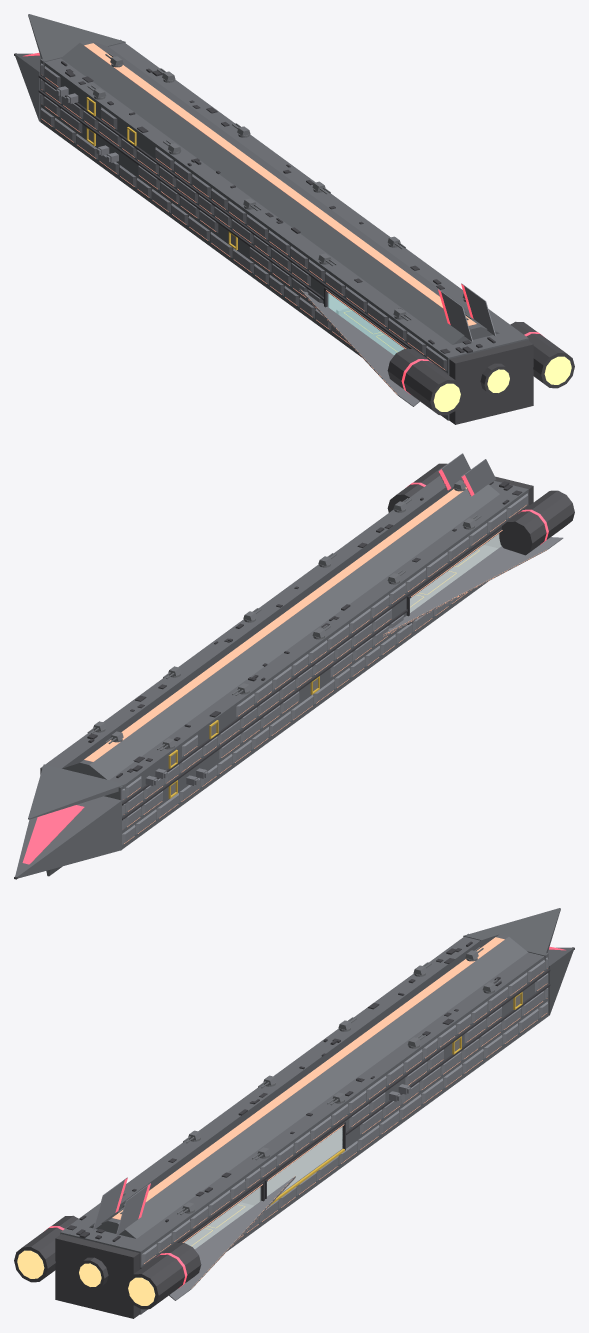
Rendered from ship_XL_v1.glb.
3 views of the same model, one above another, from view 1: azimuth 30°, elevation 25°; view 2: azimuth 150°, elevation 25°; view 3: azimuth 330°, elevation 25° (orthographic).
Parts seen in each view (by area): view 1: XL_Hull-col, XL_Armor, XL_Engines, XL_Lights, XL_Trim, XL_EngineGlow, XL_Details, XL_HangarShield_Port, XL_Decks-col, XL_Hazard; view 2: XL_Hull-col, XL_Armor, XL_Lights, XL_Engines, XL_Trim, XL_Accent, XL_HangarShield_Port, XL_Decks-col, XL_Details, XL_Hazard; view 3: XL_Hull-col, XL_Armor, XL_Engines, XL_Lights, XL_Trim, XL_EngineGlow, XL_CargoBayShield, XL_CargoBayDoor-col, XL_Details, XL_HangarShield_Starboard, XL_Decks-col, XL_Hazard.
Boxes of the visible parts, bbox=[...] form: XL_Hull-col: bbox=[15, 14, 528, 420]; XL_Armor: bbox=[40, 63, 495, 406]; XL_Engines: bbox=[14, 53, 574, 424]; XL_Lights: bbox=[41, 43, 476, 394]; XL_Trim: bbox=[38, 75, 448, 374]; XL_EngineGlow: bbox=[433, 356, 571, 411]; XL_Details: bbox=[61, 61, 495, 353]; XL_HangarShield_Port: bbox=[328, 293, 404, 354]; XL_Decks-col: bbox=[335, 308, 404, 354]; XL_Hazard: bbox=[86, 97, 397, 352]; XL_Hull-col: bbox=[15, 476, 528, 878]; XL_Armor: bbox=[121, 453, 563, 844]; XL_Lights: bbox=[84, 487, 546, 843]; XL_Engines: bbox=[14, 463, 574, 879]; XL_Trim: bbox=[122, 505, 529, 820]; XL_Accent: bbox=[22, 469, 548, 864]; XL_HangarShield_Port: bbox=[410, 534, 501, 612]; XL_Decks-col: bbox=[410, 545, 497, 612]; XL_Details: bbox=[87, 481, 522, 777]; XL_Hazard: bbox=[168, 549, 479, 798]; XL_Hull-col: bbox=[60, 908, 573, 1314]; XL_Armor: bbox=[93, 957, 548, 1300]; XL_Engines: bbox=[14, 947, 574, 1318]; XL_Lights: bbox=[112, 937, 547, 1288]; XL_Trim: bbox=[140, 969, 550, 1268]; XL_EngineGlow: bbox=[17, 1250, 155, 1305]; XL_CargoBayShield: bbox=[267, 1127, 342, 1196]; XL_CargoBayDoor-col: bbox=[267, 1127, 341, 1196]; XL_Details: bbox=[66, 941, 501, 1241]; XL_HangarShield_Starboard: bbox=[184, 1187, 260, 1248]; XL_Decks-col: bbox=[184, 1202, 253, 1248]; XL_Hazard: bbox=[191, 992, 522, 1246].
Size of the model in its own units: 42.61 by 29.45 by 240.
